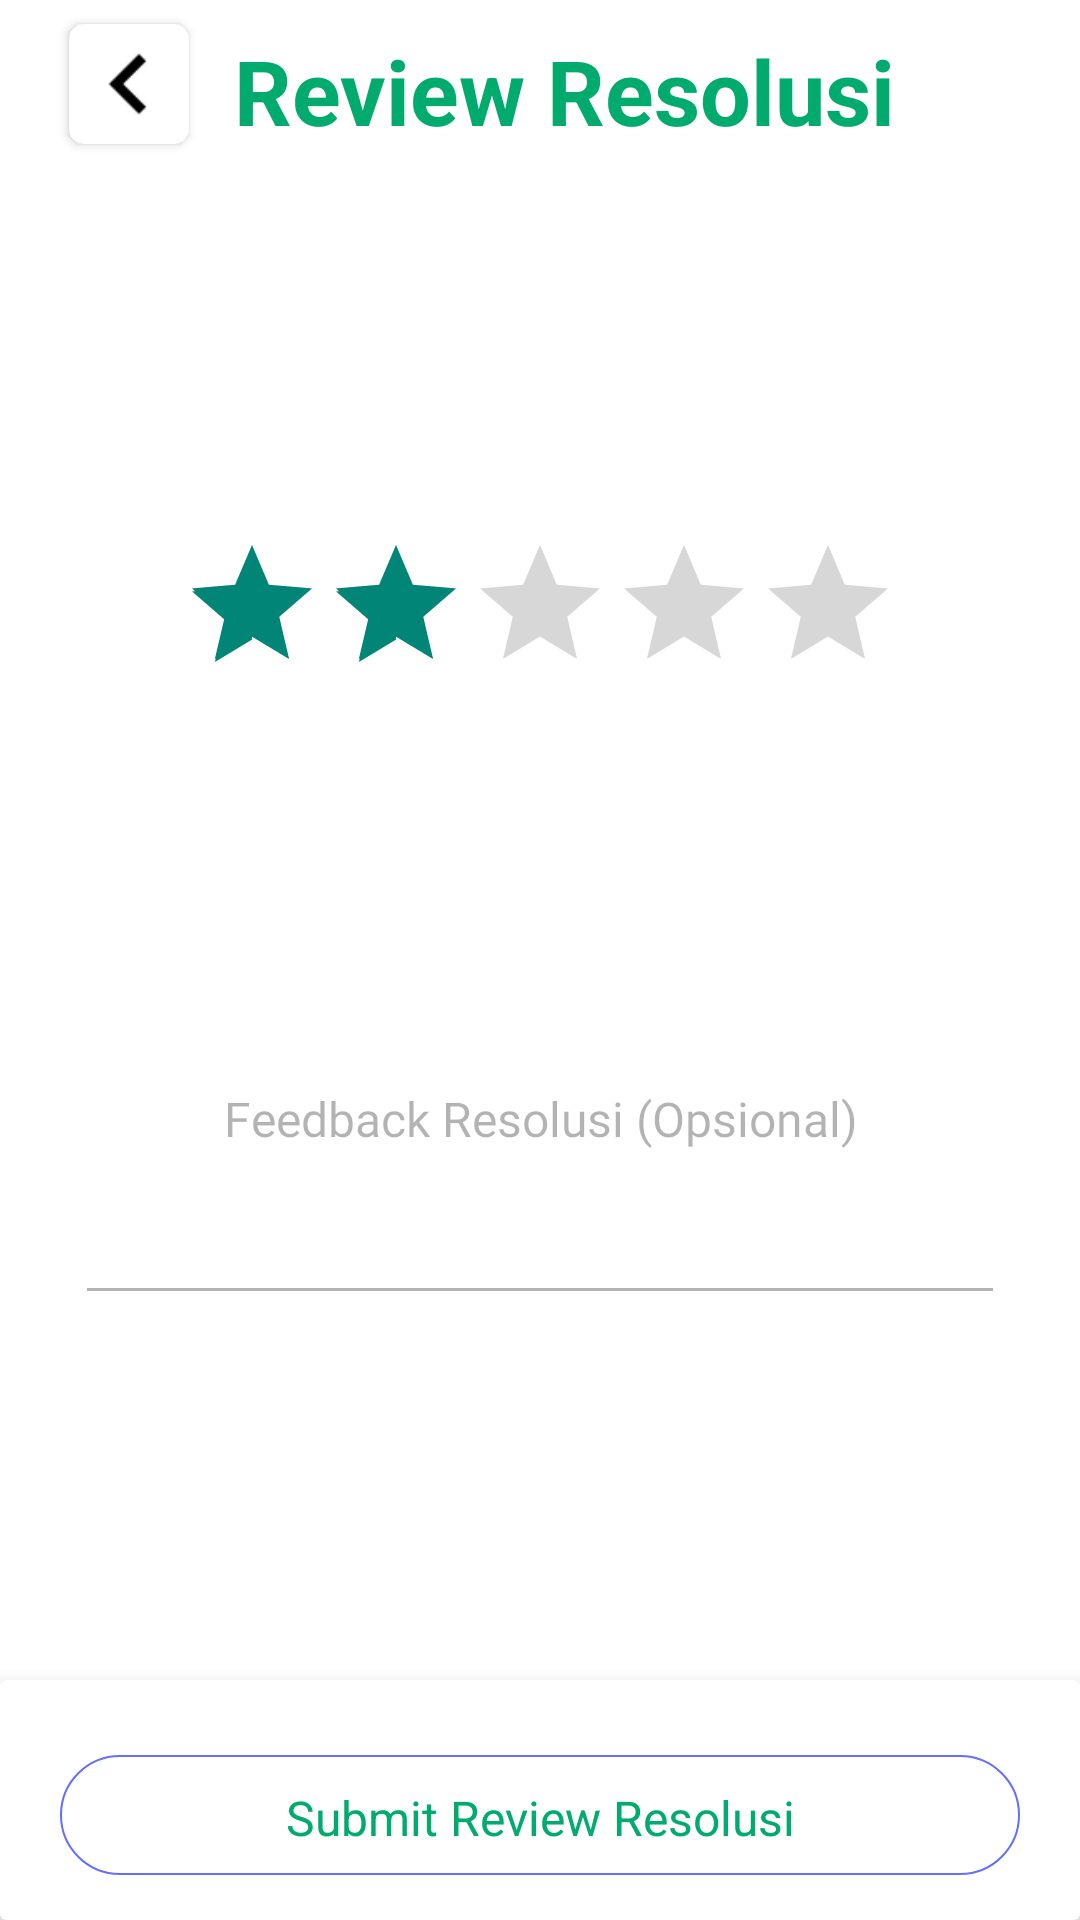

Where to tap for icons on this 1080*1920 app screen, as (x=x, y=y):
iconback: (x=107, y=84)
